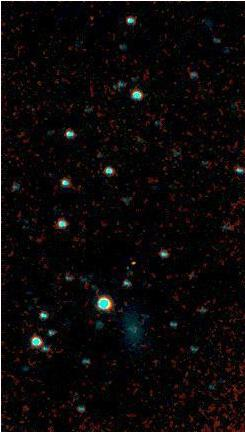star: (122, 249, 152, 279)
